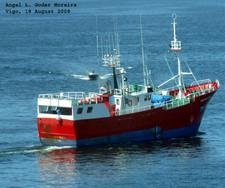otherboat: (33, 11, 220, 149)
